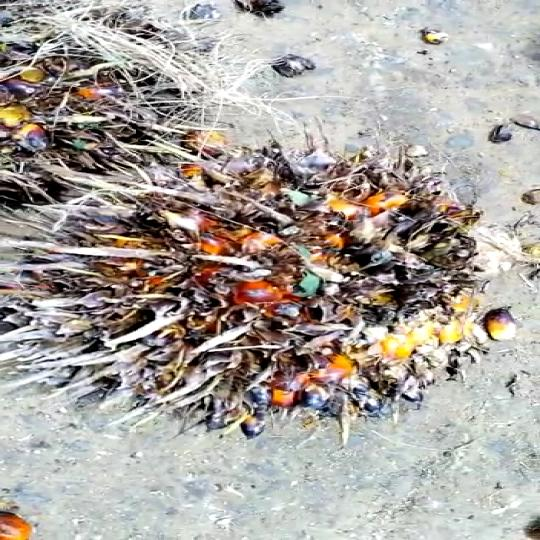terlalu masak: (0, 142, 499, 460)
